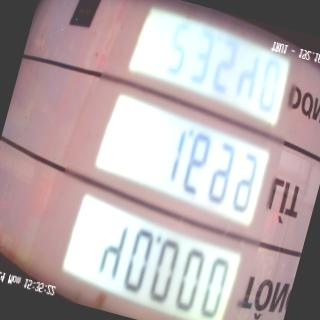screen: (42, 0, 314, 320)
